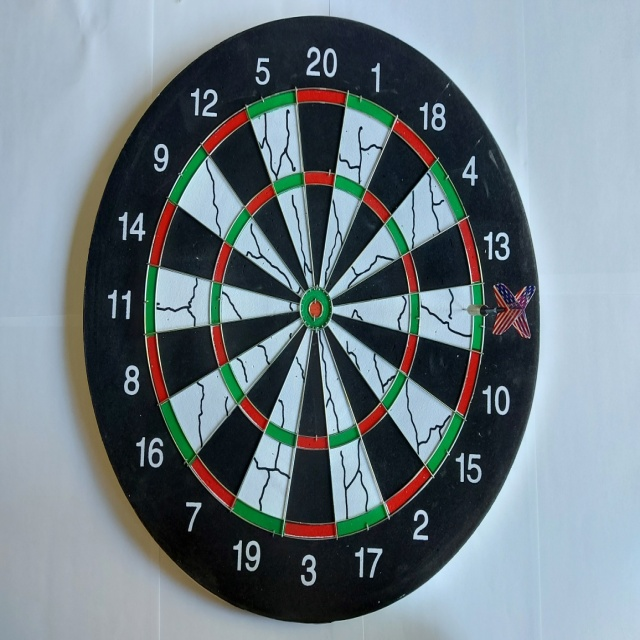Dart: (453, 278, 538, 347)
